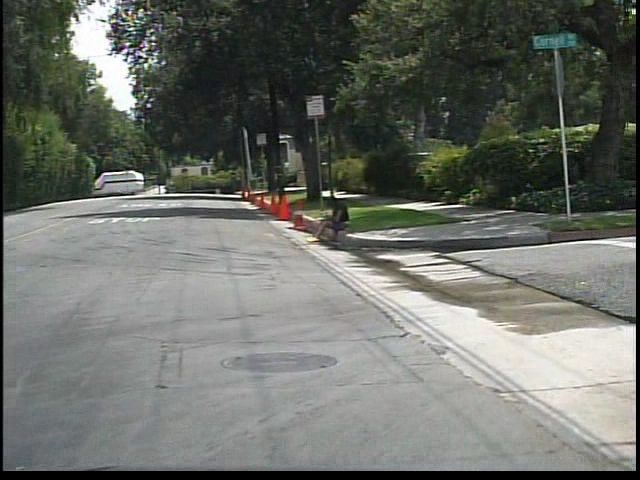person: (309, 193, 362, 246)
